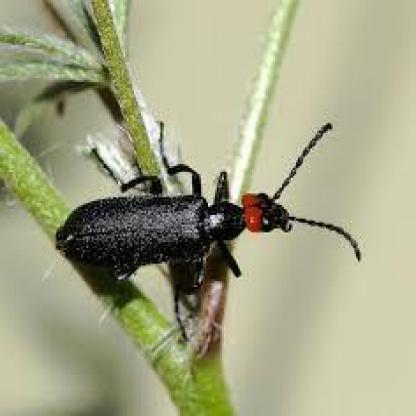blister beetle: (52, 130, 363, 293)
